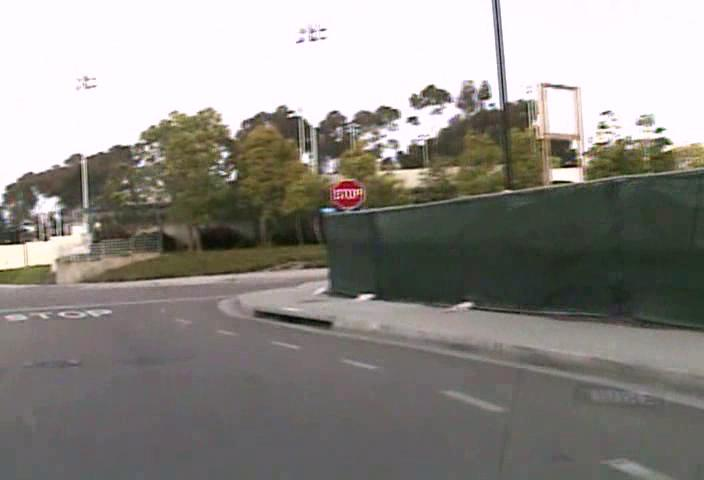stop: (331, 178, 366, 211)
